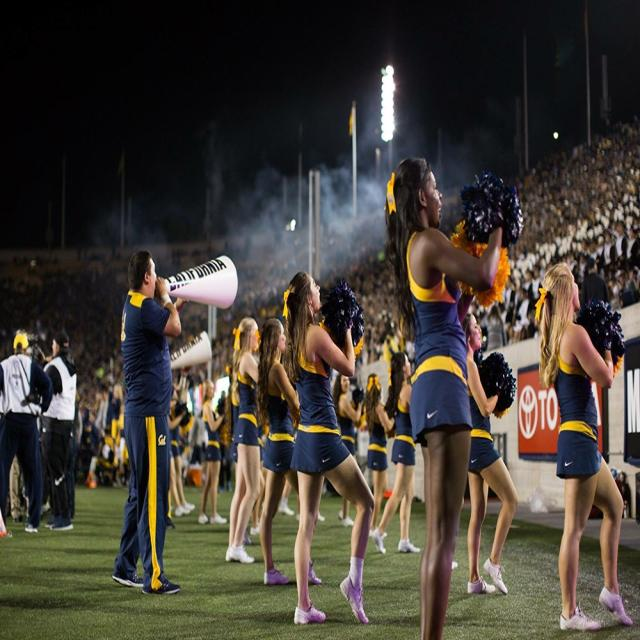body: (2, 248, 639, 355), (190, 104, 639, 248), (382, 150, 508, 639), (532, 258, 635, 637), (280, 266, 376, 627), (108, 245, 195, 600), (253, 313, 324, 589), (462, 312, 520, 598), (161, 357, 238, 532), (0, 328, 55, 536), (370, 350, 422, 556), (223, 312, 263, 567), (65, 355, 130, 486), (42, 328, 80, 534), (363, 372, 397, 540), (196, 376, 230, 527), (333, 372, 365, 527), (31, 355, 54, 521), (244, 410, 272, 546), (588, 459, 634, 525), (0, 450, 31, 540), (278, 473, 332, 523)
